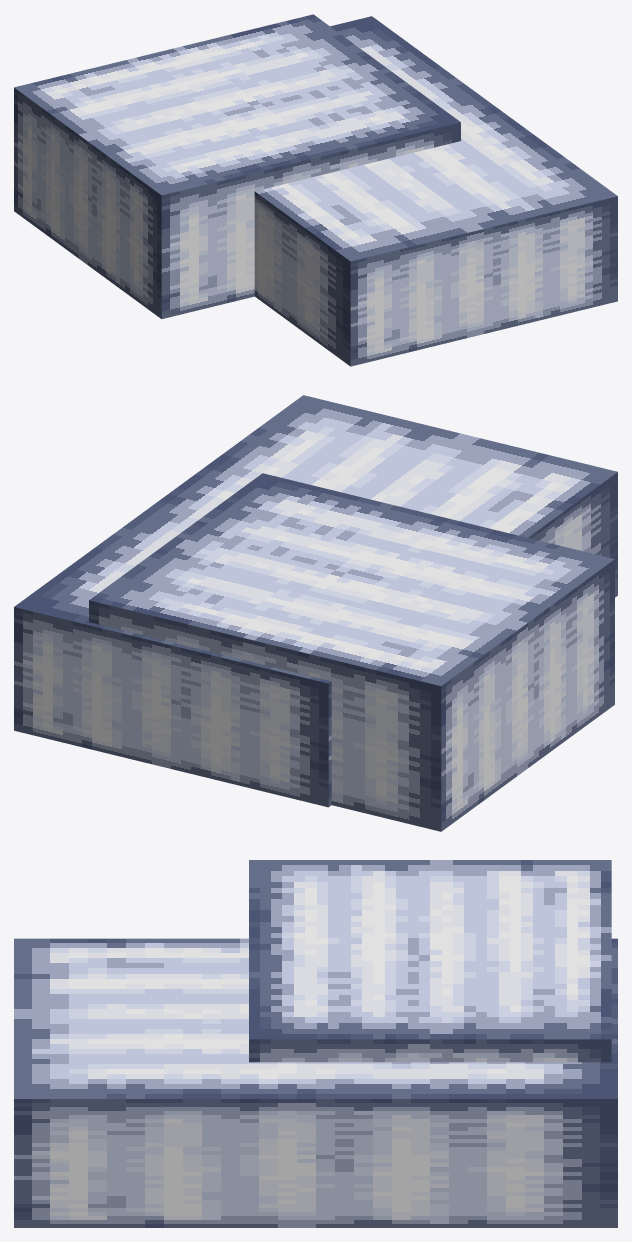
File: subWorld6Cover.obj
The picture shows the model from 3 angles, top to bottom: view 1: azimuth 30°, elevation 25°; view 2: azimuth 150°, elevation 25°; view 3: azimuth 270°, elevation 25°; orthographic projection. The views are drawn at different scales.
Parts seen in each view (by area): view 1: subWorld6Cover; view 2: subWorld6Cover; view 3: subWorld6Cover.
Boxes of the visible parts, box(x1,y1,x2,y2) form: subWorld6Cover: box(14, 14, 617, 366); subWorld6Cover: box(14, 395, 617, 831); subWorld6Cover: box(14, 860, 617, 1227).
Size of the model in its own units: 37.4 by 12.27 by 44.2.
